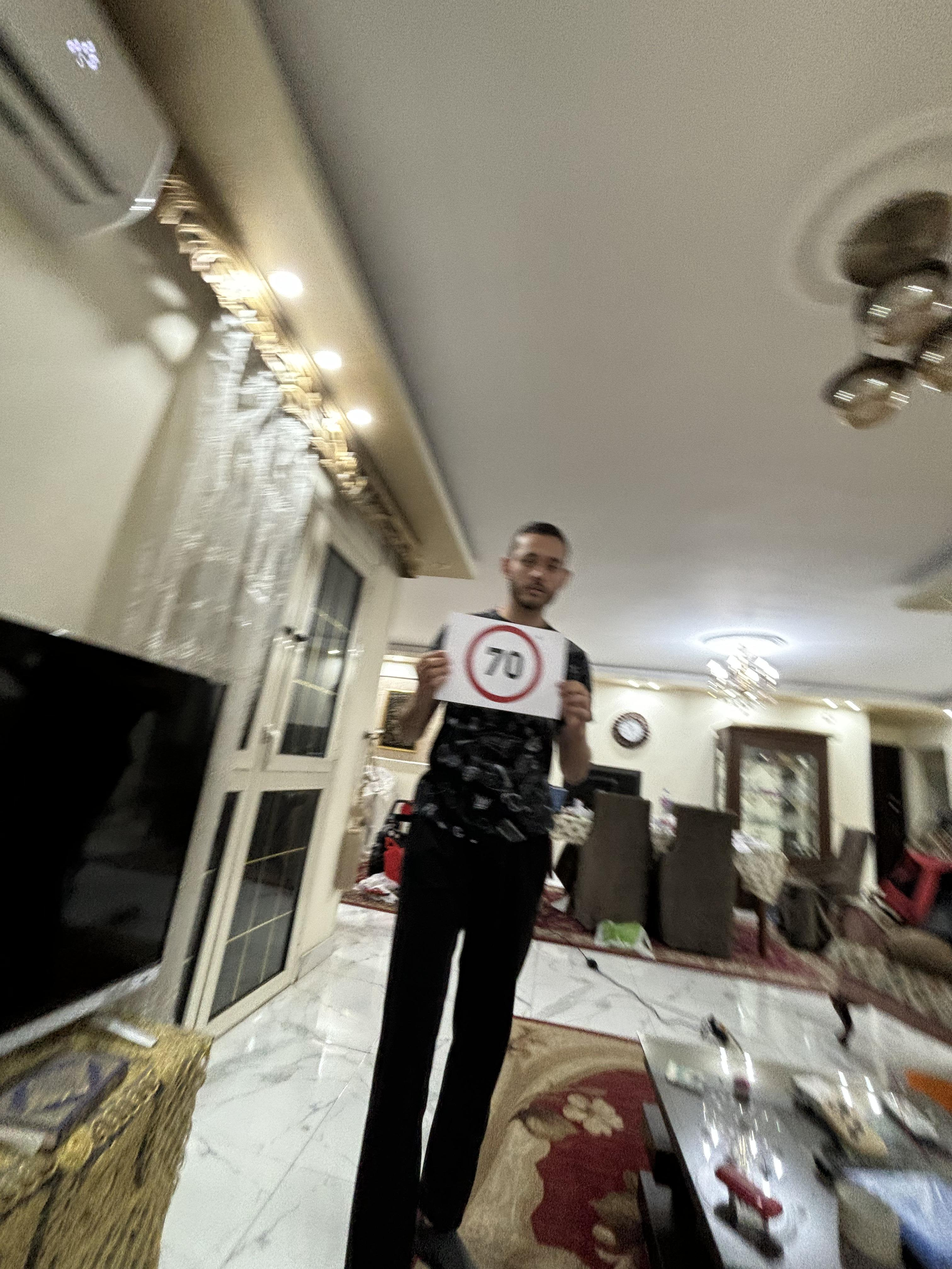70-Speed: (465, 623, 544, 703)
